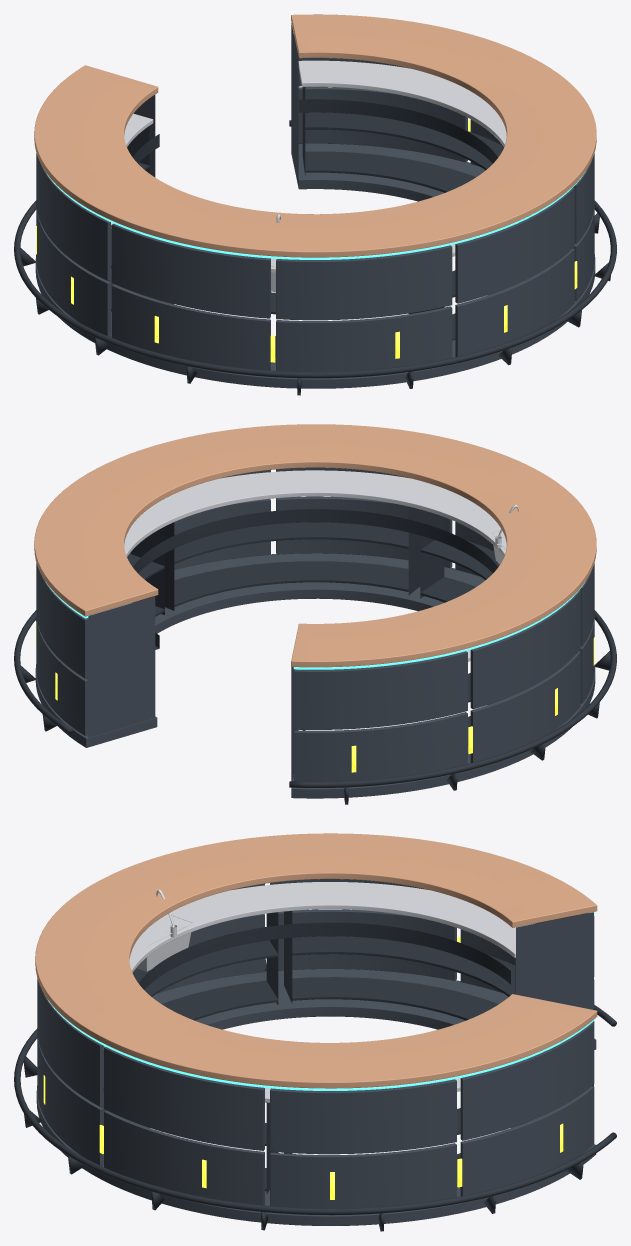
The model's file is cantina_01_island_bar.glb.
3 views of the same model, one above another, from view 1: azimuth 30°, elevation 25°; view 2: azimuth 150°, elevation 25°; view 3: azimuth 270°, elevation 25° (orthographic). The views are drawn at different scales.
Visible parts, largest first — view 1: Exterior_Panels, Countertop_Copper, Interior_Shelves, Foot_Rail, Interior_Worktop, Cyan_Light_Ring, Amber_Lights; view 2: Exterior_Panels, Countertop_Copper, Interior_Shelves, Interior_Worktop, Foot_Rail, Cyan_Light_Ring, Amber_Lights; view 3: Exterior_Panels, Countertop_Copper, Interior_Shelves, Interior_Worktop, Foot_Rail, Cyan_Light_Ring, Sink_Basin, Amber_Lights.
Part boxes in pixels (left/top/right/bottom): Exterior_Panels: left=35, top=23, right=595, bottom=388; Countertop_Copper: left=34, top=14, right=596, bottom=257; Interior_Shelves: left=108, top=87, right=503, bottom=357; Foot_Rail: left=14, top=120, right=616, bottom=395; Interior_Worktop: left=111, top=60, right=506, bottom=272; Cyan_Light_Ring: left=44, top=170, right=585, bottom=259; Amber_Lights: left=36, top=120, right=577, bottom=362; Exterior_Panels: left=35, top=467, right=595, bottom=798; Countertop_Copper: left=34, top=424, right=596, bottom=667; Interior_Shelves: left=86, top=506, right=499, bottom=745; Interior_Worktop: left=87, top=470, right=506, bottom=661; Foot_Rail: left=14, top=610, right=616, bottom=804; Cyan_Light_Ring: left=46, top=581, right=585, bottom=669; Amber_Lights: left=36, top=622, right=594, bottom=772; Exterior_Panels: left=36, top=879, right=596, bottom=1225; Countertop_Copper: left=35, top=833, right=597, bottom=1088; Interior_Shelves: left=101, top=911, right=523, bottom=1194; Interior_Worktop: left=103, top=882, right=534, bottom=1102; Foot_Rail: left=14, top=958, right=616, bottom=1231; Cyan_Light_Ring: left=47, top=912, right=594, bottom=1090; Sink_Basin: left=131, top=914, right=192, bottom=971; Amber_Lights: left=43, top=936, right=563, bottom=1199.
Size of the model in its own units: 4.57 by 1.21 by 4.35.
